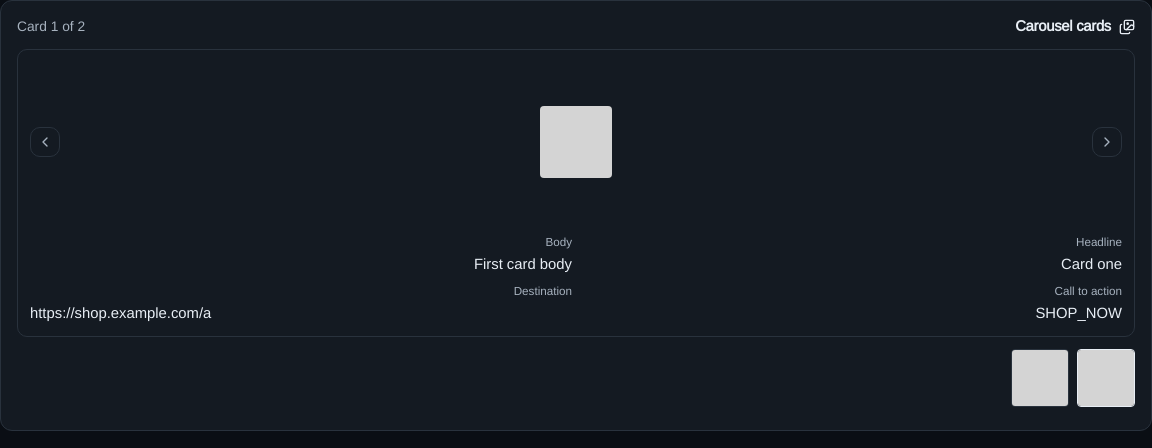
it: CreativeCarousel › moves between cards, and each card carries its own words
The image size is (1152, 448).
Click the button named "Next card" at (45, 142), box [30,126,60,156]
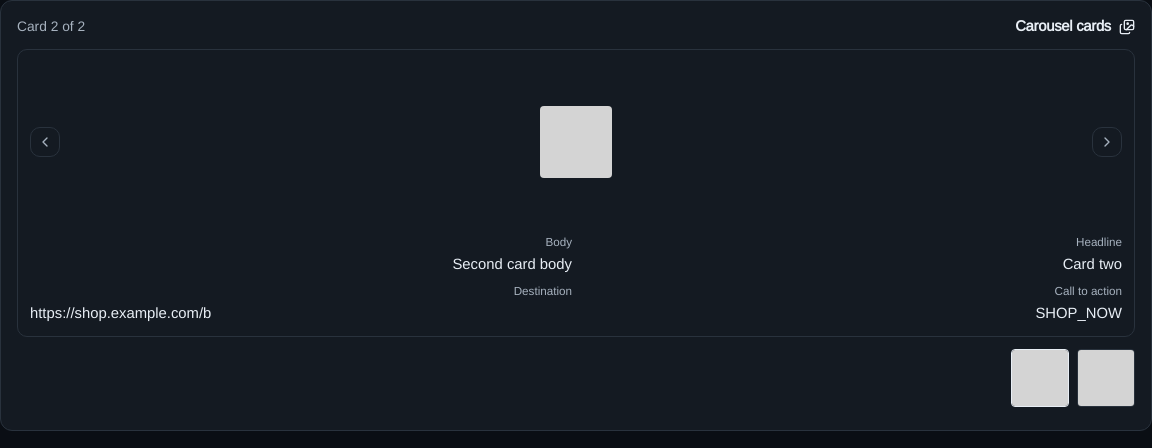
Check: the text "Card two" is shown, box [1063,255,1122,272]
Check: the text "https://shop.example.com/b" is shown, box [30,304,211,321]
Check: the text "Card one" is gone
